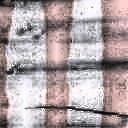crackTip: (24, 102, 128, 122)
